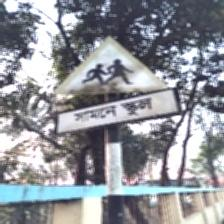School-in-front: (53, 35, 178, 135)
